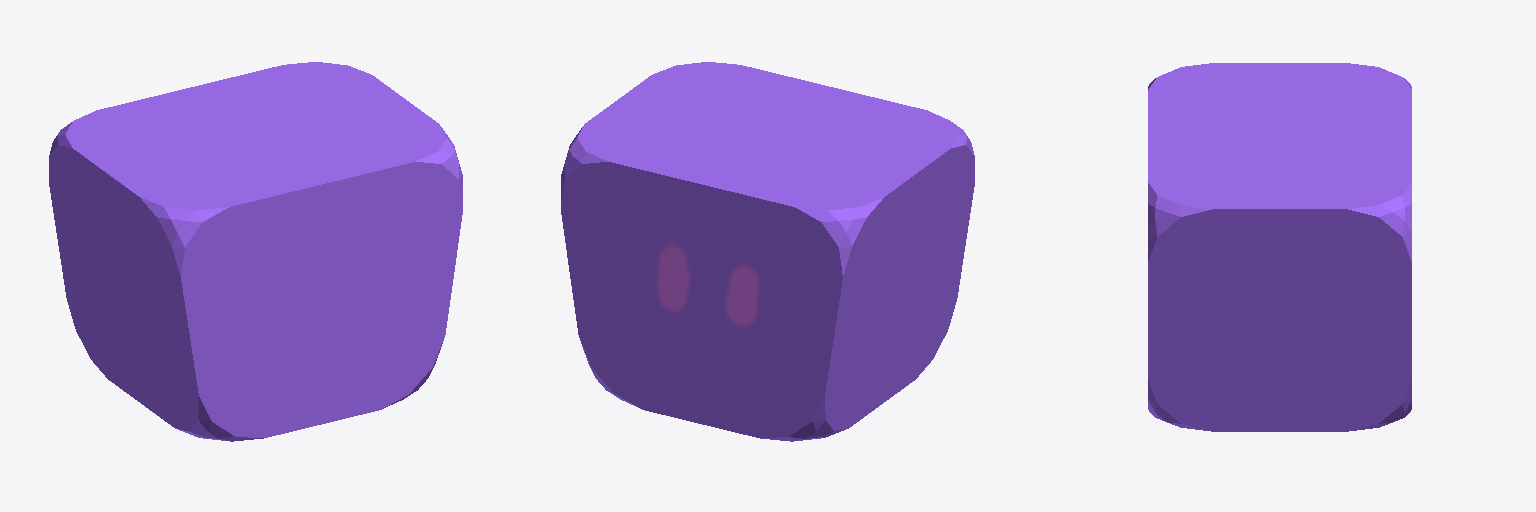
The picture shows the model from 3 angles: view 1: azimuth 30°, elevation 25°; view 2: azimuth 150°, elevation 25°; view 3: azimuth 270°, elevation 25°; orthographic projection.
Visible parts, largest first — view 1: head; view 2: head; view 3: head.
Boxes of the visible parts, <box> form: head: <box>49,62,462,441</box>; head: <box>561,62,974,441</box>; head: <box>1148,63,1411,431</box>.
Bounding box in the file's own units: 0.5946 × 0.4545 × 0.4545.
Materials: 1 (1 with a texture image).